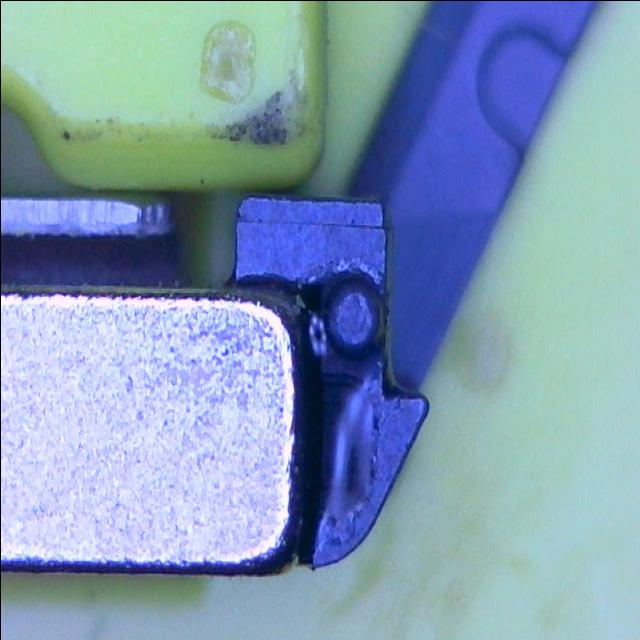over: (313, 370, 377, 522)
